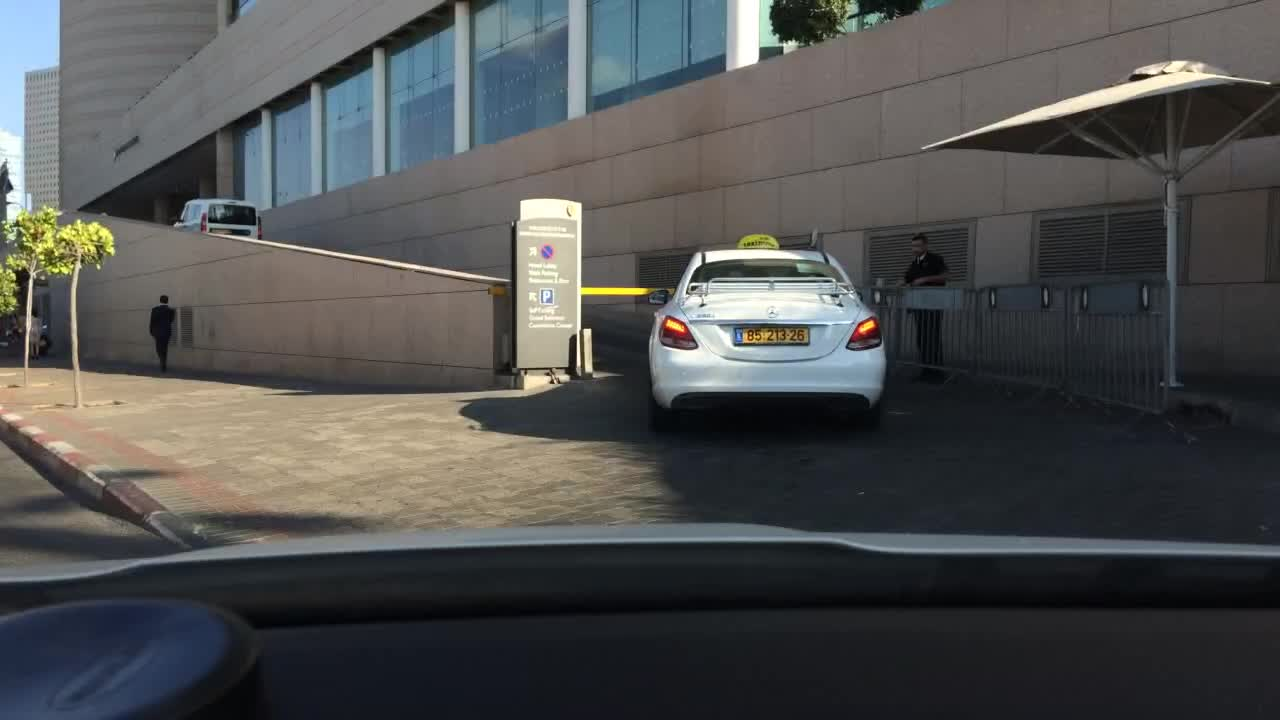car: (646, 232, 887, 437), (173, 197, 261, 246), (397, 312, 400, 321)
person: (894, 233, 953, 385), (149, 293, 175, 374), (28, 307, 42, 359)
